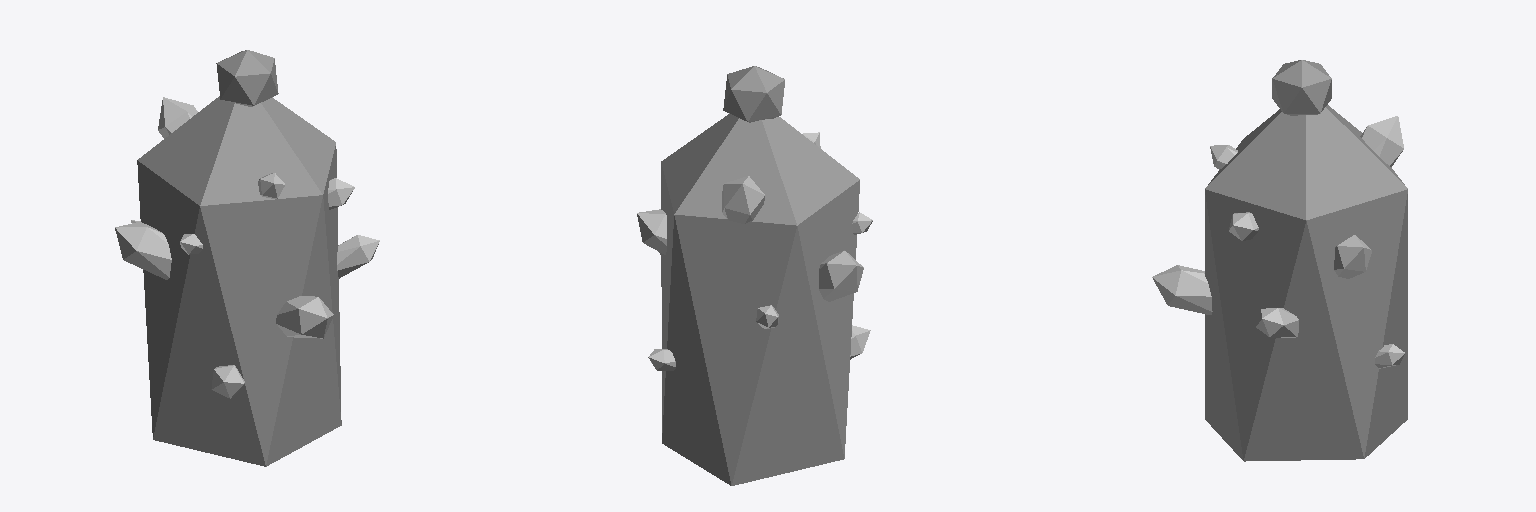
Rendered from tree3_2LP.obj.
The picture shows the model from 3 angles: view 1: azimuth 30°, elevation 25°; view 2: azimuth 150°, elevation 25°; view 3: azimuth 270°, elevation 25°; orthographic projection.
Visible parts, largest first — view 1: Icosphere.001, Icosphere.006_Icosphere.021, Icosphere_Icosphere.002; view 2: Icosphere.001, Icosphere.006_Icosphere.021, Icosphere_Icosphere.002; view 3: Icosphere.001, Icosphere.006_Icosphere.021, Icosphere_Icosphere.002.
Part boxes in pixels (bbox=[...]): Icosphere.001: bbox=[137, 96, 341, 466]; Icosphere.006_Icosphere.021: bbox=[115, 97, 379, 398]; Icosphere_Icosphere.002: bbox=[216, 50, 278, 106]; Icosphere.001: bbox=[661, 114, 859, 485]; Icosphere.006_Icosphere.021: bbox=[637, 132, 872, 370]; Icosphere_Icosphere.002: bbox=[723, 66, 784, 122]; Icosphere.001: bbox=[1205, 105, 1407, 461]; Icosphere.006_Icosphere.021: bbox=[1152, 116, 1404, 368]; Icosphere_Icosphere.002: bbox=[1272, 60, 1331, 115].
Size of the model in its own units: 0.9063 by 1.48 by 0.8735.